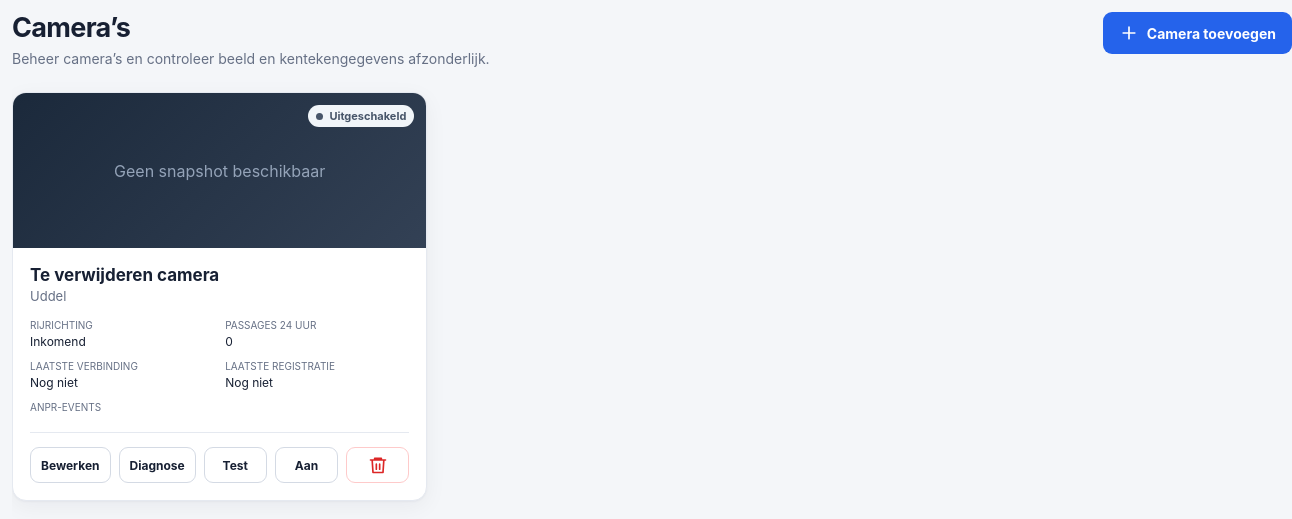
Test: cameraoverzicht verwijderen › stuurt maximaal één DELETE en ververst de lijst zonder cache
The image size is (1292, 519).
Check: the heading "Te verwijderen camera" is shown, box [30,265,219,285]
Click the button named "Verwijderen". click: (378, 465)
box: [346,447,409,483]
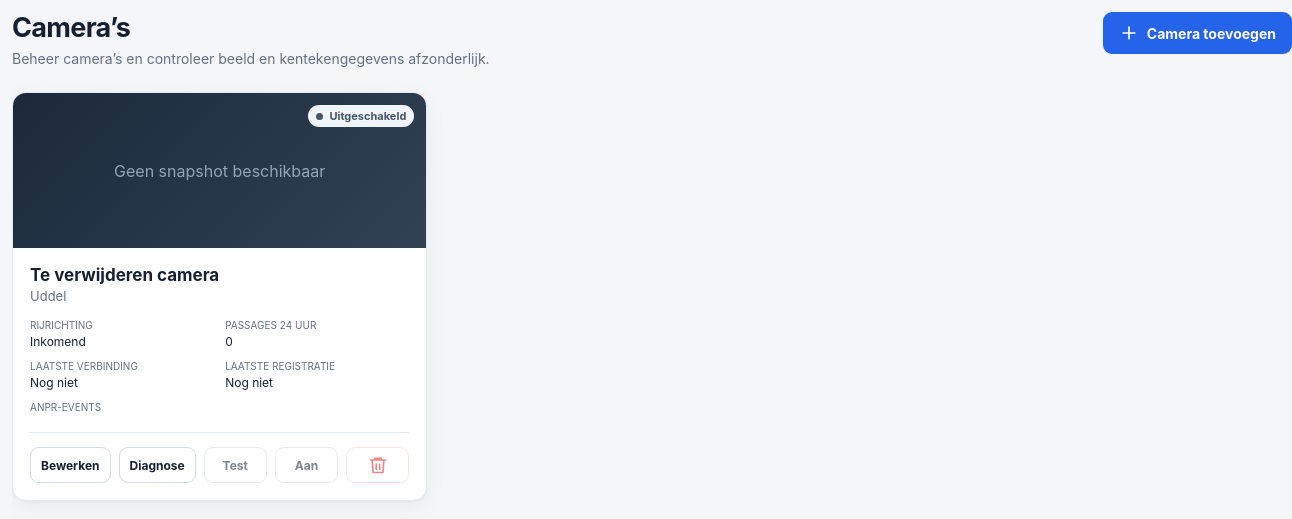
Click the button named "Verwijderen". click: (378, 465)
box: [346,447,409,483]
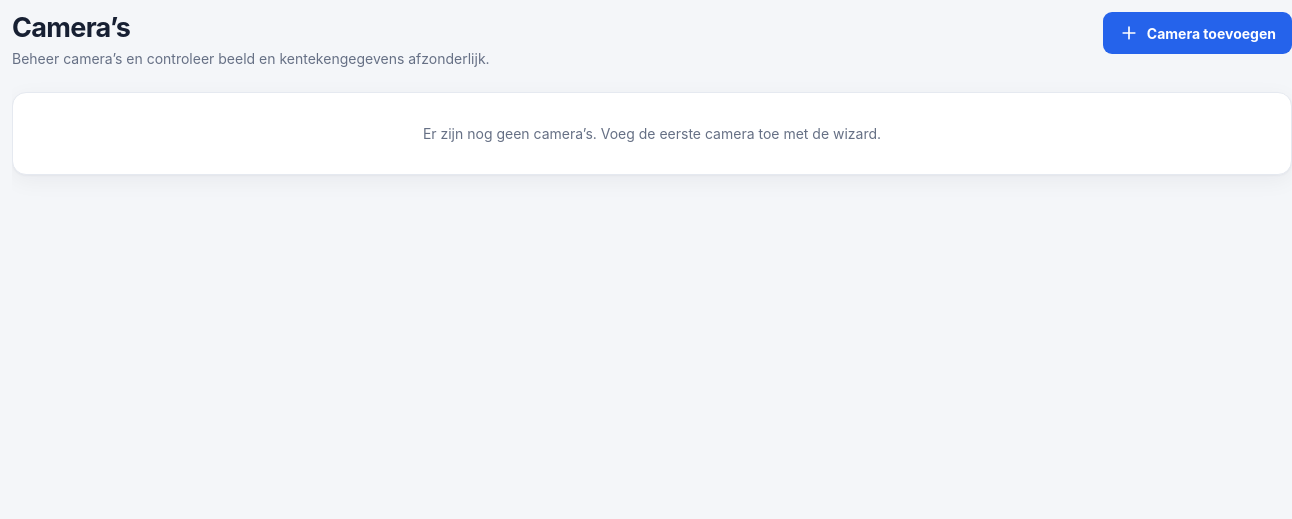
Check: the heading "Te verwijderen camera" is gone
